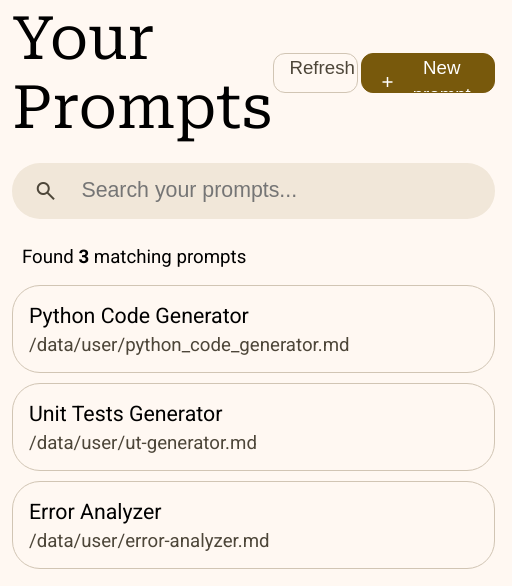
it: refreshing screen › search query should be cleared and all prompts from user data directory should be shown when user clicks refresh button
Type "Err" into the field at coordinates (279, 191), box [79,163,479,219]
Then press Enter
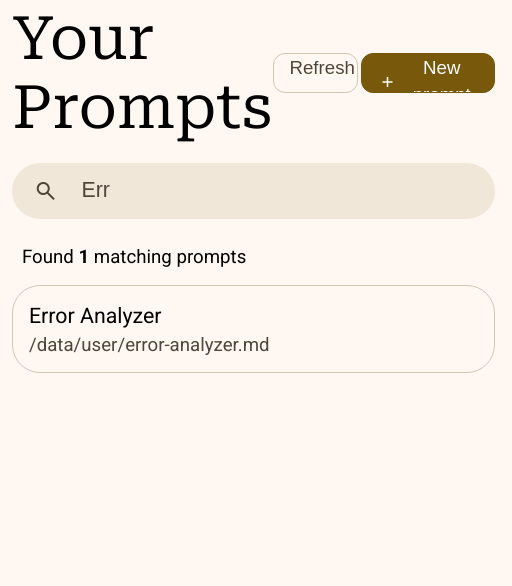
Click the button "Refresh" at coordinates (315, 73), box [272,53,358,93]
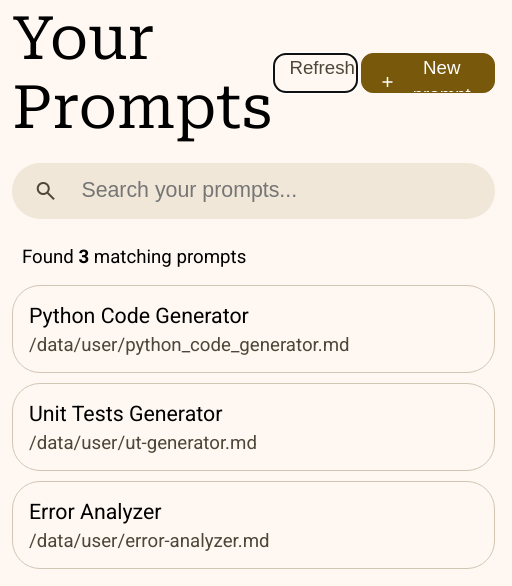
Result: the number of list items is 3 at [12,285,495,373]; [12,383,495,471]; [12,481,495,569]
Result: the field is empty at [79,163,479,219]
